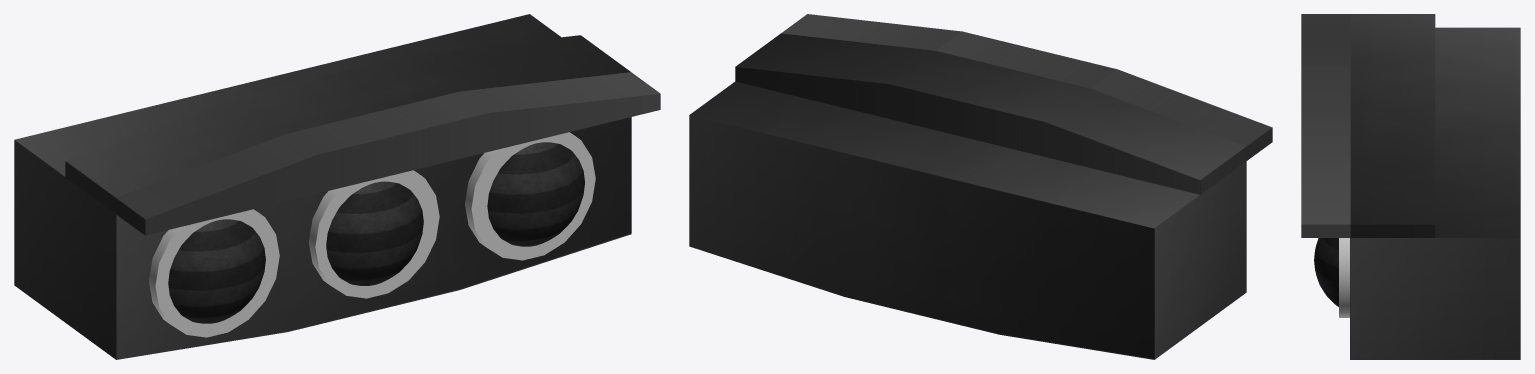
The model's file is Signal.fbx.
3 views of the same model, side by side, from view 1: azimuth 30°, elevation 25°; view 2: azimuth 150°, elevation 25°; view 3: azimuth 270°, elevation 25° (orthographic). The views are drawn at different scales.
Visible parts, largest first — view 1: Box001, Sphere001, Sphere003, Sphere002, Cylinder003, Cylinder001, Cylinder002; view 2: Box001; view 3: Box001, Sphere003, Cylinder003.
Boxes of the visible parts, x1,y1,x2,y2 form: Box001: [14, 14, 660, 359]; Sphere001: [168, 219, 265, 323]; Sphere003: [487, 142, 584, 246]; Sphere002: [326, 181, 423, 285]; Cylinder003: [465, 132, 595, 260]; Cylinder001: [149, 209, 279, 337]; Cylinder002: [308, 170, 439, 298]; Box001: [689, 14, 1272, 359]; Box001: [1301, 14, 1520, 359]; Sphere003: [1314, 238, 1338, 306]; Cylinder003: [1339, 238, 1349, 317].
Bounding box in the file's own units: 77.9 × 34.28 × 28.62.
